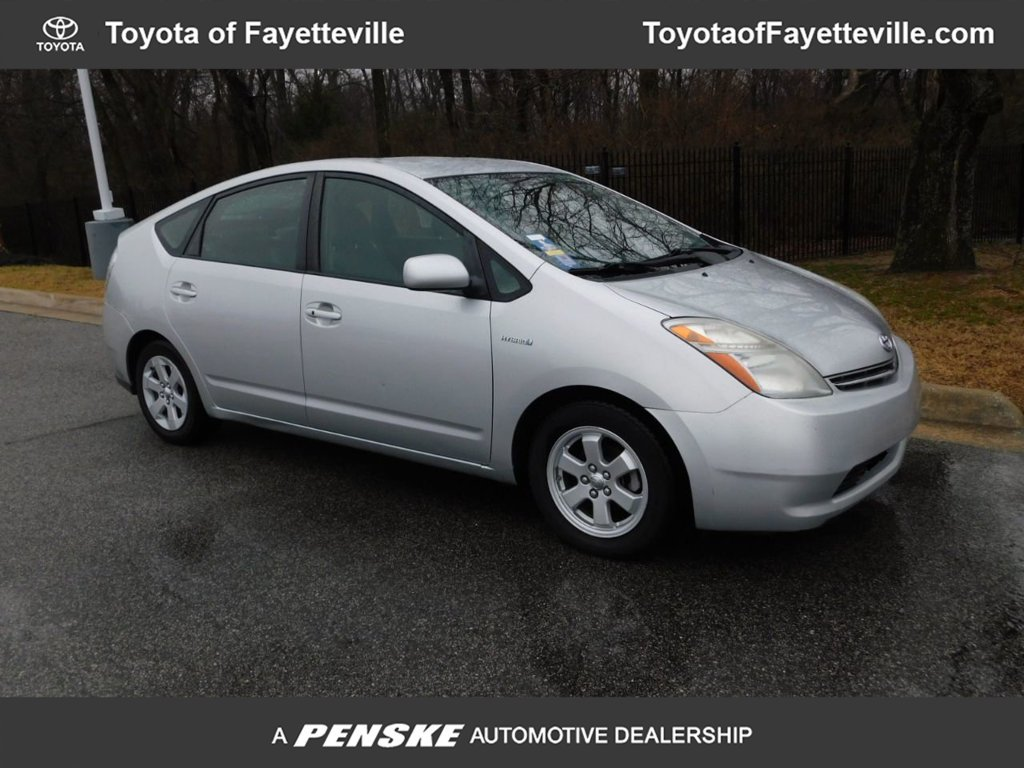Toyota Prius: (99, 148, 921, 562)
